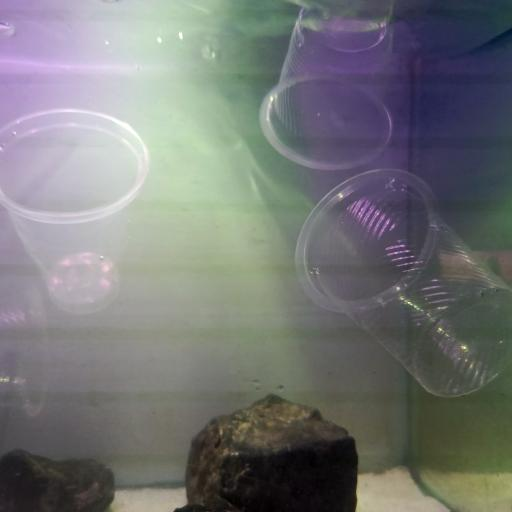plastic_cup: (294, 165, 512, 401), (4, 107, 152, 319), (260, 2, 396, 176), (1, 294, 52, 417)
